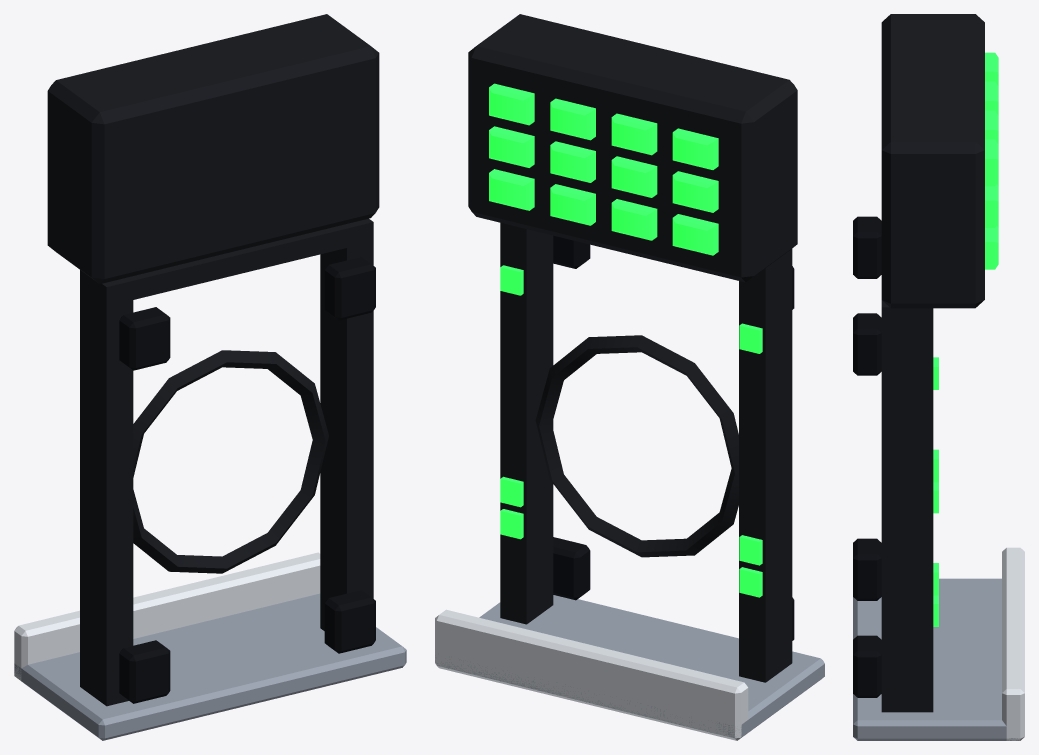
File: ladder_green.glb
The picture shows the model from 3 angles, left to right: view 1: azimuth 30°, elevation 25°; view 2: azimuth 150°, elevation 25°; view 3: azimuth 270°, elevation 25°; orthographic projection. The views are drawn at different scales.
Visible parts, largest first — view 1: ladder_green_TOP_deco_body, ladder_green_MID_deco_body, ladder_green_BOT_deco_checker, ladder_green_BOT_chrome, ladder_green_BOT_deco_body, ladder_green_BOT_deco_trim, ladder_green_TOP_deco_trim; view 2: ladder_green_TOP_deco_body, ladder_green_MID_deco_body, ladder_green_TOP_deco_led, ladder_green_BOT_chrome, ladder_green_BOT_deco_checker, ladder_green_BOT_deco_body, ladder_green_MID_deco_led, ladder_green_BOT_deco_trim, ladder_green_TOP_deco_trim; view 3: ladder_green_TOP_deco_body, ladder_green_BOT_deco_checker, ladder_green_MID_deco_body, ladder_green_BOT_deco_body, ladder_green_BOT_chrome, ladder_green_BOT_deco_trim, ladder_green_TOP_deco_trim, ladder_green_TOP_deco_led, ladder_green_MID_deco_led.
Part boxes in pixels (x1,y1,x2,y2): ladder_green_TOP_deco_body: (47,14,379,394); ladder_green_MID_deco_body: (80,317,373,620); ladder_green_BOT_deco_checker: (14,593,406,740); ladder_green_BOT_chrome: (14,552,320,682); ladder_green_BOT_deco_body: (80,542,373,706); ladder_green_BOT_deco_trim: (119,590,375,703); ladder_green_TOP_deco_trim: (119,257,375,370); ladder_green_TOP_deco_body: (468,14,797,372); ladder_green_MID_deco_body: (500,295,792,597); ladder_green_TOP_deco_led: (489,83,762,353); ladder_green_BOT_chrome: (435,609,748,740); ladder_green_BOT_deco_checker: (437,595,824,739); ladder_green_BOT_deco_body: (500,520,792,682); ladder_green_MID_deco_led: (500,476,762,597); ladder_green_BOT_deco_trim: (553,537,794,640); ladder_green_TOP_deco_trim: (553,235,794,309); ladder_green_TOP_deco_body: (881,14,984,410); ladder_green_BOT_deco_checker: (853,578,1019,740); ladder_green_MID_deco_body: (881,411,933,629); ladder_green_BOT_deco_body: (881,629,933,712); ladder_green_BOT_chrome: (1002,547,1024,740); ladder_green_BOT_deco_trim: (853,538,881,697); ladder_green_TOP_deco_trim: (853,216,881,375); ladder_green_TOP_deco_led: (933,52,998,389); ladder_green_MID_deco_led: (933,449,938,626).
Size of the model in its own units: 0.3 by 0.57 by 0.15.
